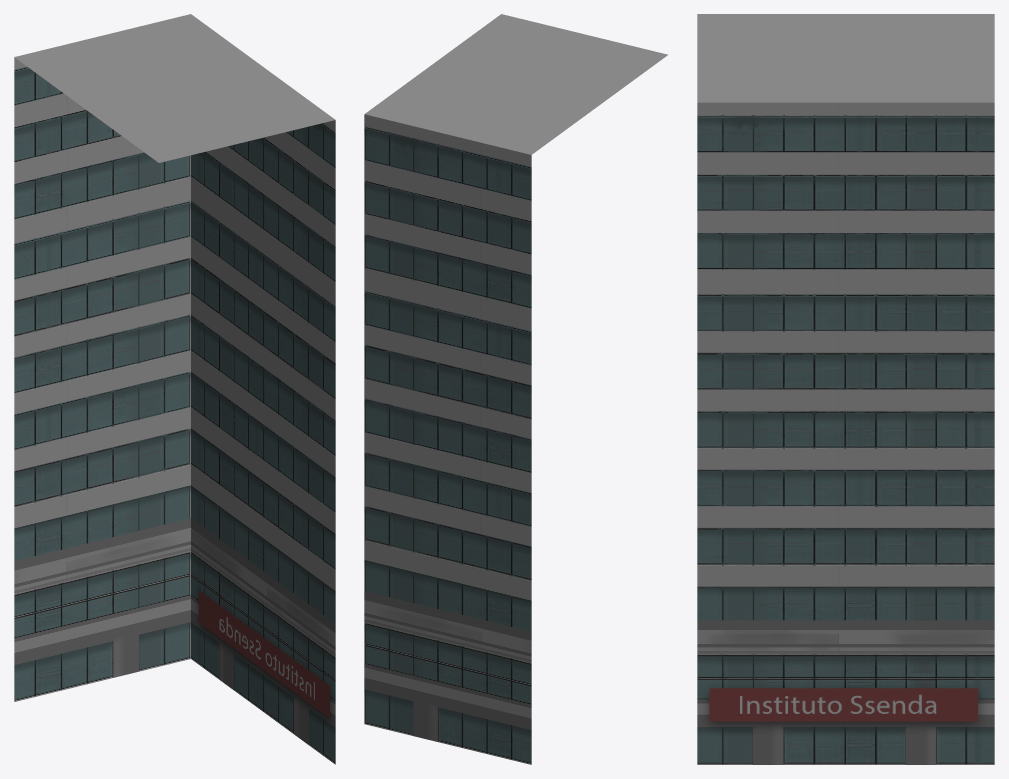
File: edificio3.FBX
3 renders of one model, left to right at view 1: azimuth 30°, elevation 25°; view 2: azimuth 150°, elevation 25°; view 3: azimuth 270°, elevation 25°, orthographic. The views are drawn at different scales.
Parts seen in each view (by area): view 1: Box151; view 2: Box151; view 3: Box151.
Part boxes in pixels (x1,y1,x2,y2): Box151: [14, 14, 335, 764]; Box151: [364, 14, 668, 764]; Box151: [697, 14, 994, 764].
Size of the model in its own units: 614 by 2141 by 871.
Materials: 1 (1 with a texture image).
